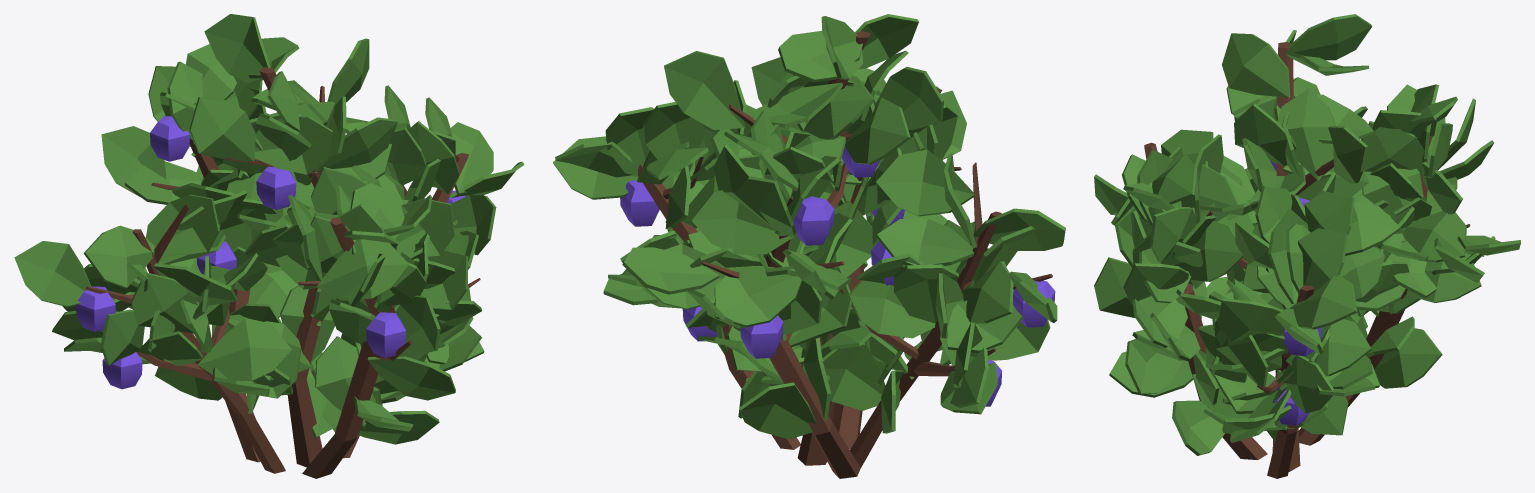
File: Kust.fbx
The picture shows the model from 3 angles, left to right: view 1: azimuth 30°, elevation 25°; view 2: azimuth 150°, elevation 25°; view 3: azimuth 270°, elevation 25°; orthographic projection. The views are drawn at different scales.
Visible parts, largest first — view 1: shrub, shrub|sprout.002|Dupli|, shrub|sprout.002|Dupli|15, shrub|sprout.002|Dupli|63, shrub|sprout.002|Dupli|102, shrub|sprout.002|Dupli|92, shrub|sprout.002|Dupli|12, shrub|sprout.002|Dupli|9, shrub|sprout.002|Dupli|144, shrub|sprout.002|Dupli|105, shrub|sprout.002|Dupli|5, shrub|sprout.002|Dupli|66 (+70 smaller); view 2: shrub, shrub|sprout.002|Dupli|96, shrub|sprout.002|Dupli|18, shrub|sprout.002|Dupli|145, shrub|sprout.002|Dupli|159, shrub|sprout.002|Dupli|17, shrub|sprout.002|Dupli|2, shrub|sprout.002|Dupli|180, shrub|sprout.002|Dupli|152, shrub|sprout.002|Dupli|8, shrub|sprout.002|Dupli|64, shrub|sprout.002|Dupli|63 (+59 smaller); view 3: shrub, shrub|sprout.002|Dupli|87, shrub|sprout.002|Dupli|97, shrub|sprout.002|Dupli|92, shrub|sprout.002|Dupli|152, shrub|sprout.002|Dupli|51, shrub|sprout.002|Dupli|45, shrub|sprout.002|Dupli|156, shrub|sprout.002|Dupli|157, shrub|sprout.002|Dupli|40, shrub|sprout.002|Dupli|41, shrub|sprout.002|Dupli|140 (+72 smaller).
Boxes of the visible parts, x1=… form: shrub: x1=85, y1=67, x2=480, y2=478; shrub|sprout.002|Dupli|: x1=197, y1=318, x2=291, y2=380; shrub|sprout.002|Dupli|15: x1=14, y1=241, x2=91, y2=307; shrub|sprout.002|Dupli|63: x1=189, y1=97, x2=255, y2=161; shrub|sprout.002|Dupli|102: x1=316, y1=239, x2=409, y2=300; shrub|sprout.002|Dupli|92: x1=204, y1=14, x2=270, y2=83; shrub|sprout.002|Dupli|12: x1=146, y1=194, x2=219, y2=254; shrub|sprout.002|Dupli|9: x1=83, y1=225, x2=155, y2=288; shrub|sprout.002|Dupli|144: x1=101, y1=126, x2=166, y2=196; shrub|sprout.002|Dupli|105: x1=367, y1=356, x2=455, y2=400; shrub|sprout.002|Dupli|5: x1=131, y1=272, x2=197, y2=333; shrub|sprout.002|Dupli|66: x1=254, y1=116, x2=333, y2=174; shrub: x1=638, y1=31, x2=1052, y2=478; shrub|sprout.002|Dupli|96: x1=664, y1=51, x2=744, y2=129; shrub|sprout.002|Dupli|18: x1=876, y1=149, x2=973, y2=216; shrub|sprout.002|Dupli|145: x1=714, y1=266, x2=802, y2=327; shrub|sprout.002|Dupli|159: x1=691, y1=190, x2=793, y2=254; shrub|sprout.002|Dupli|17: x1=876, y1=218, x2=974, y2=265; shrub|sprout.002|Dupli|2: x1=822, y1=343, x2=885, y2=410; shrub|sprout.002|Dupli|180: x1=622, y1=247, x2=719, y2=294; shrub|sprout.002|Dupli|152: x1=739, y1=382, x2=816, y2=439; shrub|sprout.002|Dupli|8: x1=848, y1=280, x2=935, y2=338; shrub|sprout.002|Dupli|64: x1=845, y1=97, x2=910, y2=164; shrub|sprout.002|Dupli|63: x1=876, y1=67, x2=944, y2=129; shrub: x1=1144, y1=42, x2=1470, y2=478; shrub|sprout.002|Dupli|87: x1=1222, y1=33, x2=1290, y2=97; shrub|sprout.002|Dupli|97: x1=1277, y1=88, x2=1336, y2=181; shrub|sprout.002|Dupli|92: x1=1288, y1=14, x2=1372, y2=60; shrub|sprout.002|Dupli|152: x1=1374, y1=328, x2=1442, y2=388; shrub|sprout.002|Dupli|51: x1=1289, y1=274, x2=1357, y2=329; shrub|sprout.002|Dupli|45: x1=1298, y1=228, x2=1348, y2=295; shrub|sprout.002|Dupli|156: x1=1361, y1=121, x2=1424, y2=175; shrub|sprout.002|Dupli|157: x1=1402, y1=211, x2=1466, y2=262; shrub|sprout.002|Dupli|40: x1=1218, y1=298, x2=1284, y2=341; shrub|sprout.002|Dupli|41: x1=1285, y1=319, x2=1371, y2=376; shrub|sprout.002|Dupli|140: x1=1188, y1=221, x2=1243, y2=281.
Bounding box in the file's own units: 193 × 167 × 150.
